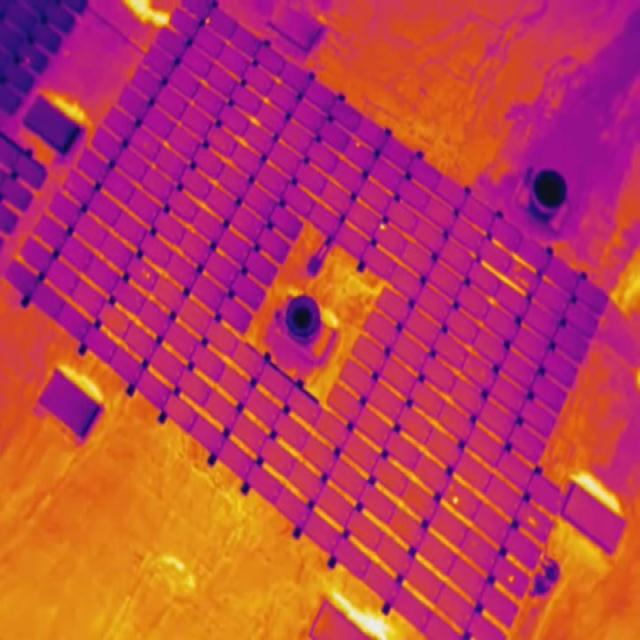Orange-Spots: (142, 269, 150, 279), (528, 516, 536, 526), (520, 279, 529, 287), (452, 495, 459, 505), (508, 574, 514, 584), (379, 224, 386, 230), (514, 266, 521, 272), (25, 58, 30, 64), (515, 275, 520, 281), (206, 18, 210, 24), (450, 485, 454, 491), (356, 142, 360, 147)
